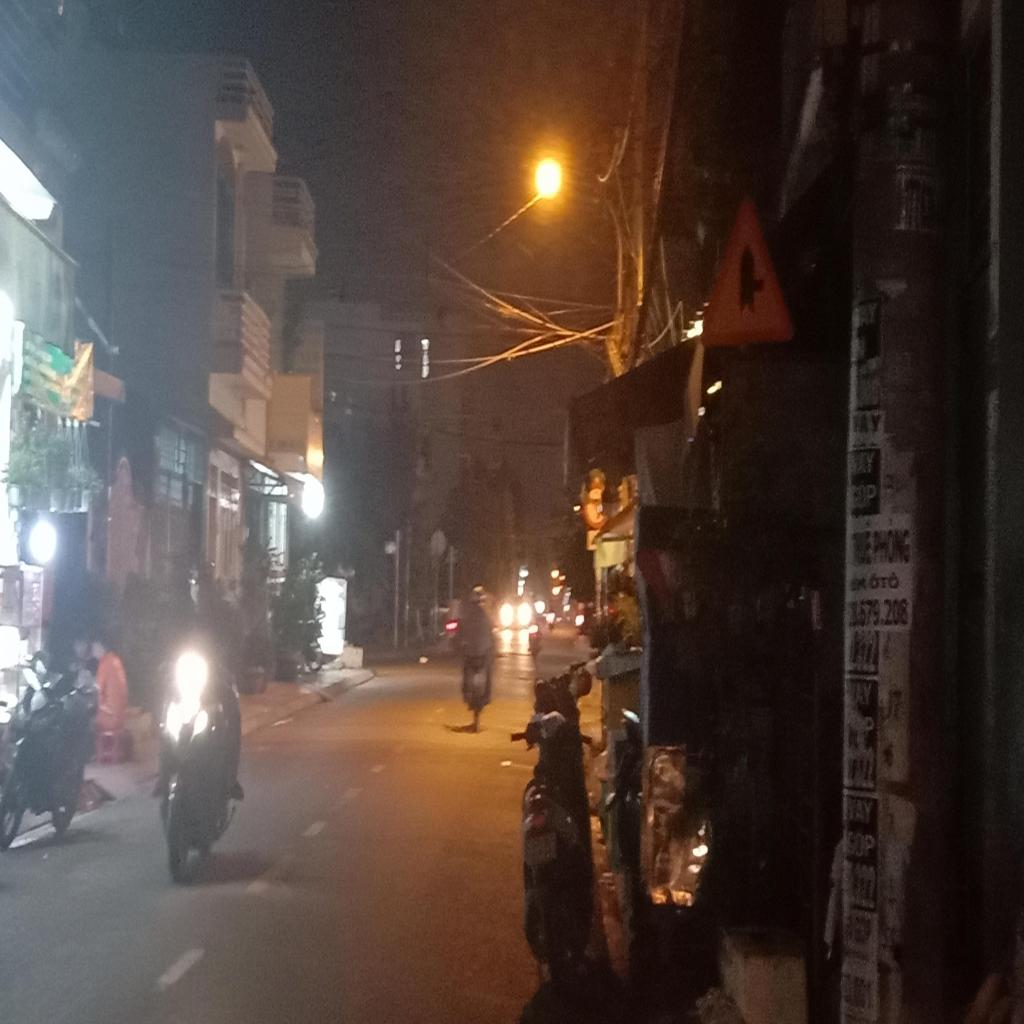giao_nhau_voi_duong_khong_uu_tien: (700, 197, 796, 342)
